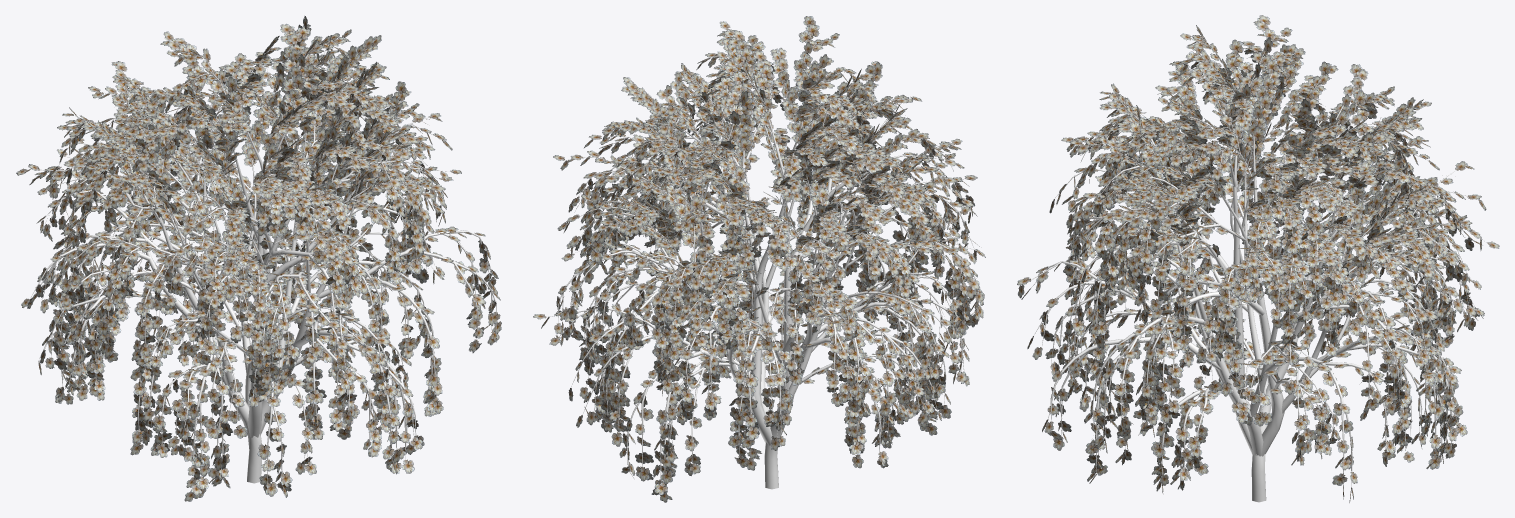
The model's file is ume tree.glb.
3 views of the same model, side by side, from view 1: azimuth 30°, elevation 25°; view 2: azimuth 150°, elevation 25°; view 3: azimuth 270°, elevation 25° (orthographic). The views are drawn at different scales.
Visible parts, largest first — view 1: leaves, tree; view 2: leaves, tree; view 3: leaves, tree.
Boxes of the visible parts, x1,y1,x2,y2 form: leaves: (16, 16, 501, 501); tree: (27, 34, 496, 484); leaves: (533, 16, 985, 502); tree: (547, 35, 977, 489); leaves: (1017, 15, 1499, 502); tree: (1031, 29, 1486, 502).
Bounding box in the file's own units: 5.86 × 6.38 × 5.96.
2 materials, 1 textured.
